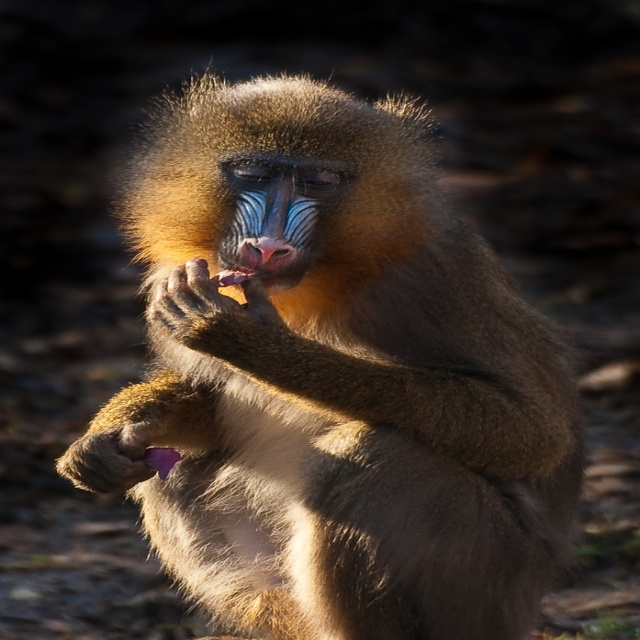Monkey: (51, 56, 614, 640)
